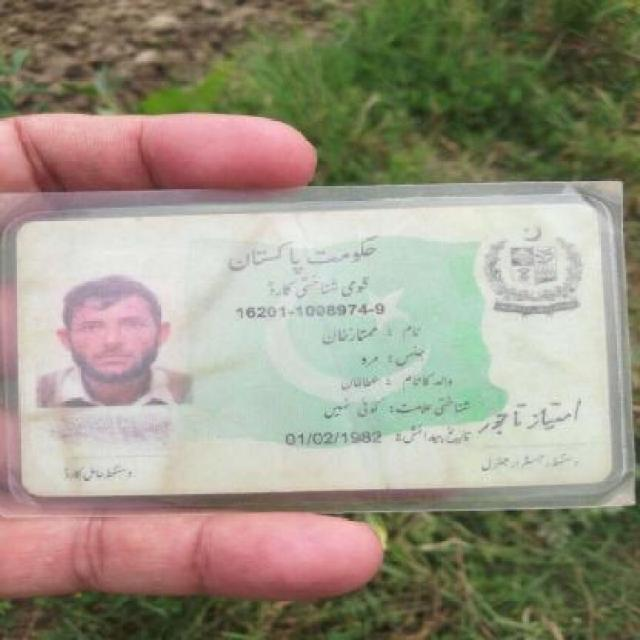Front: (11, 204, 618, 493)
